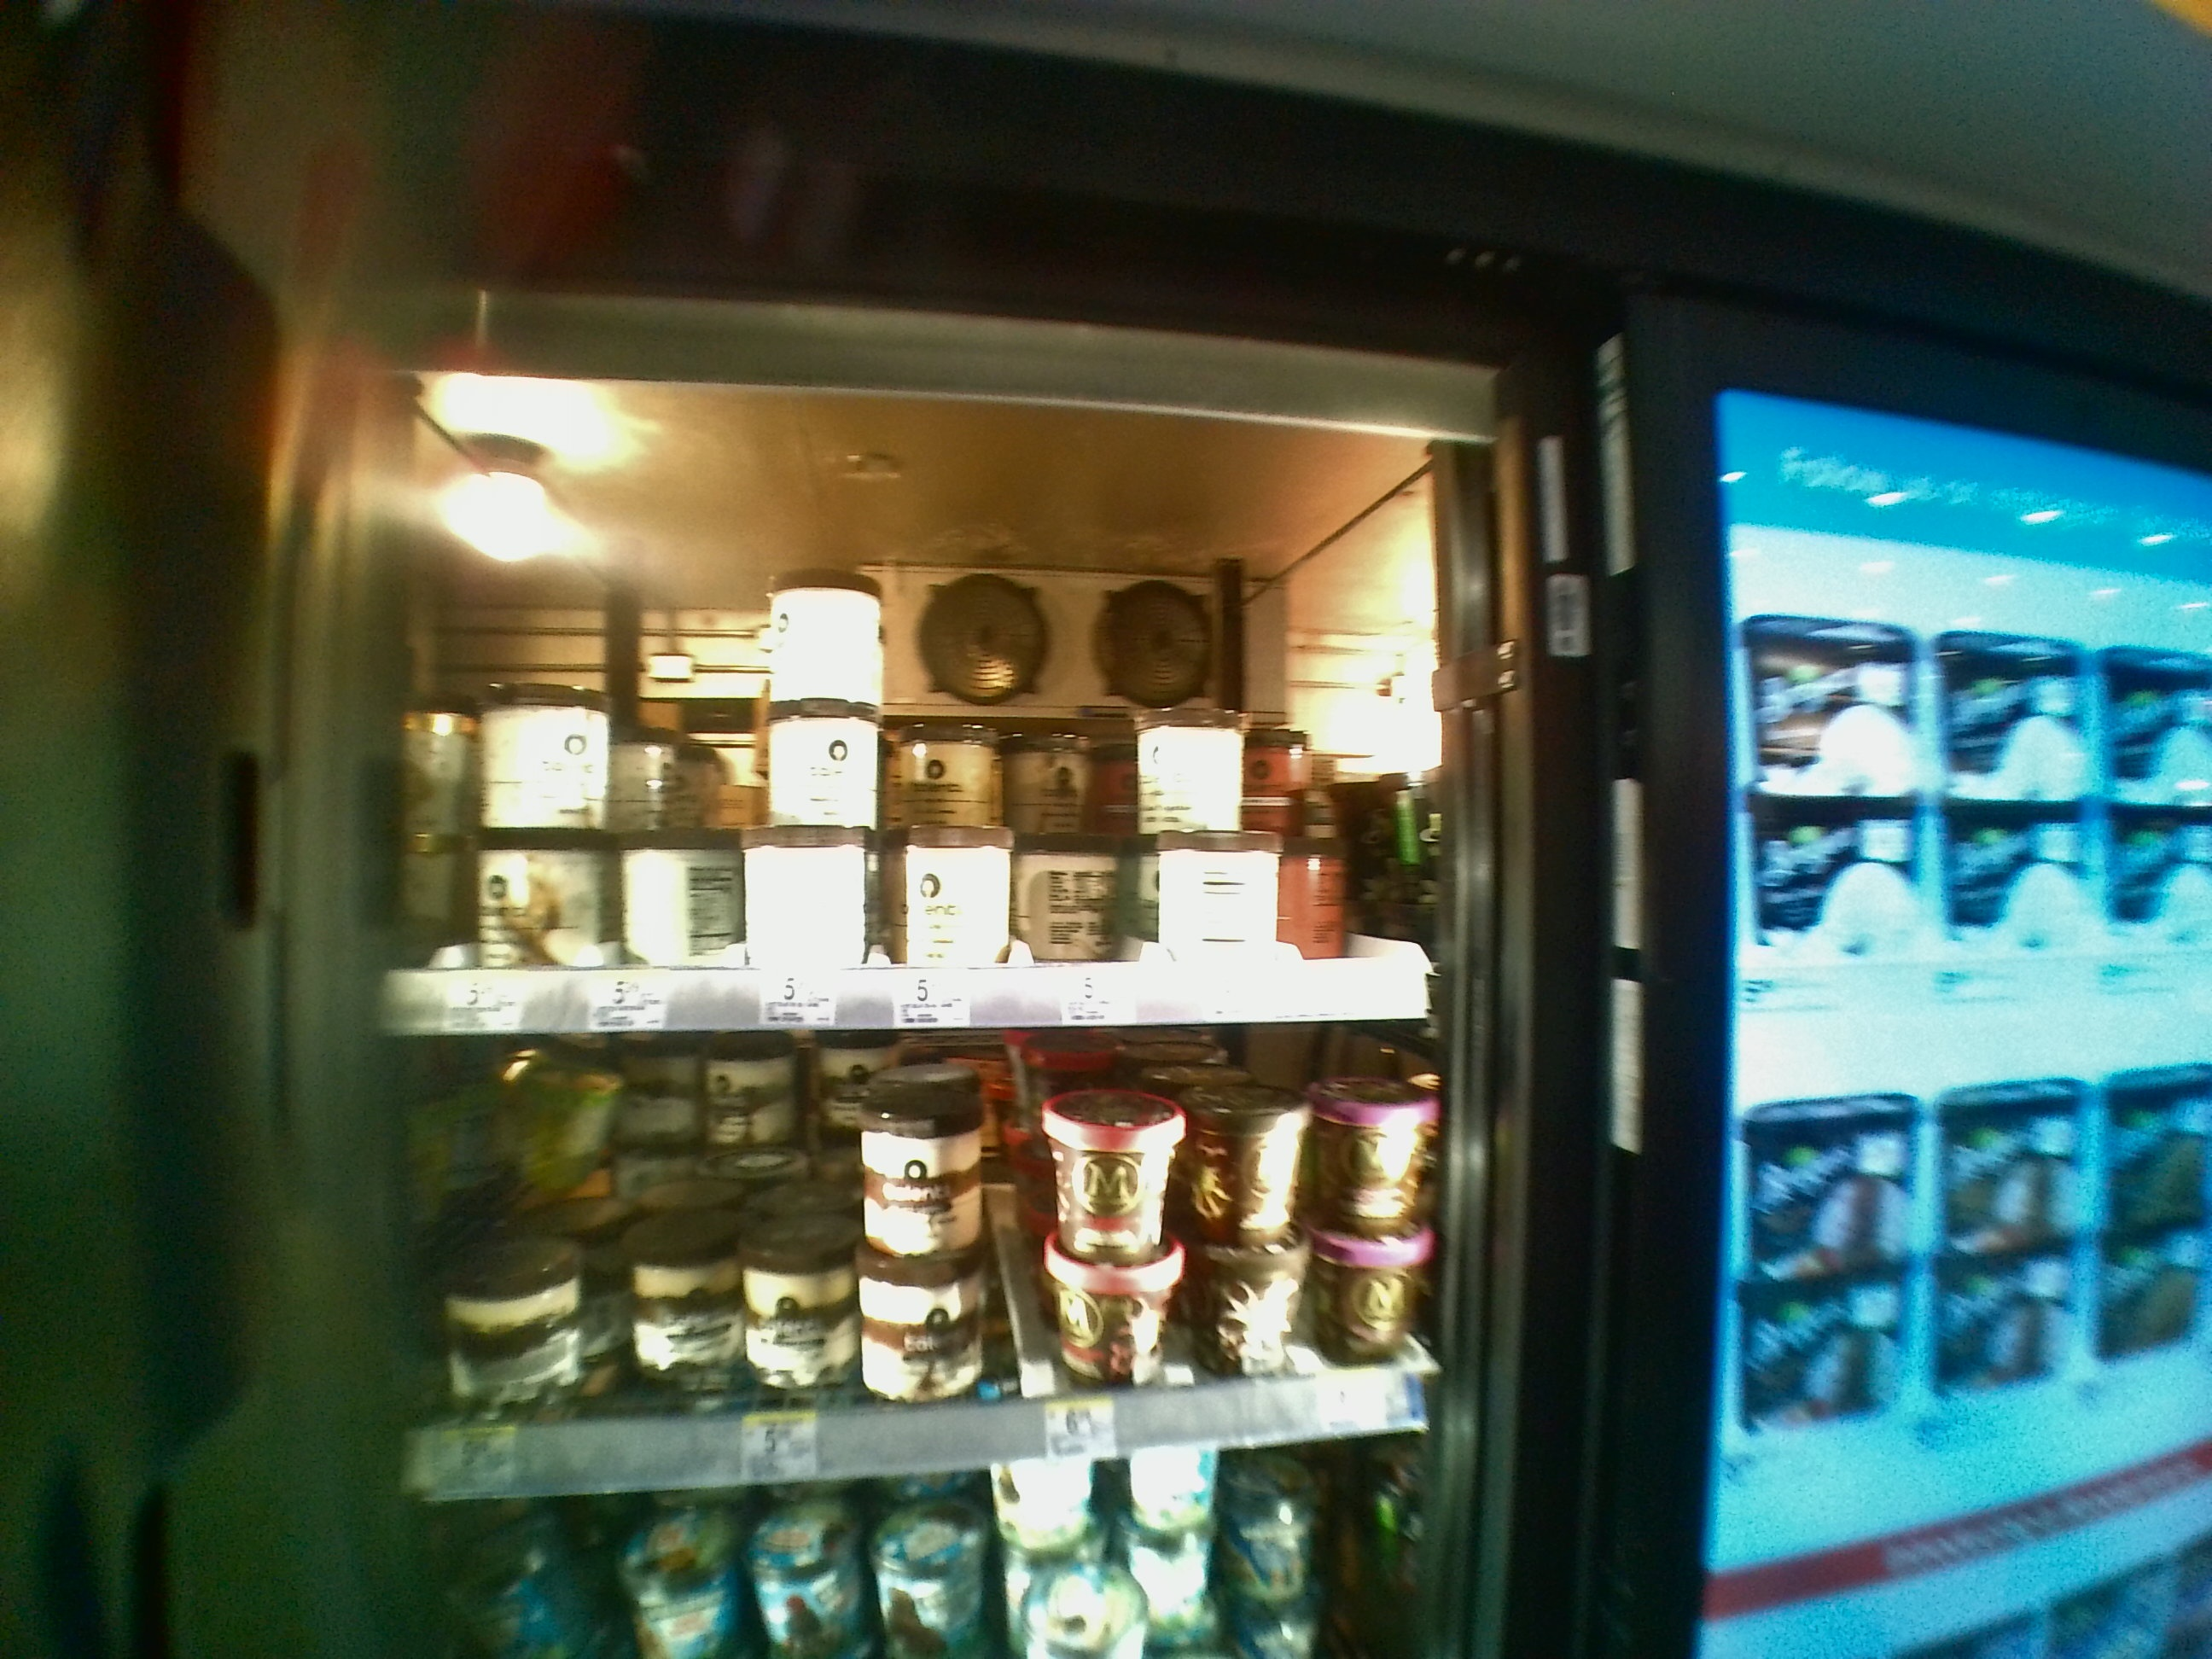shelf: (380, 450, 1435, 1025), (387, 1042, 1439, 1507)
